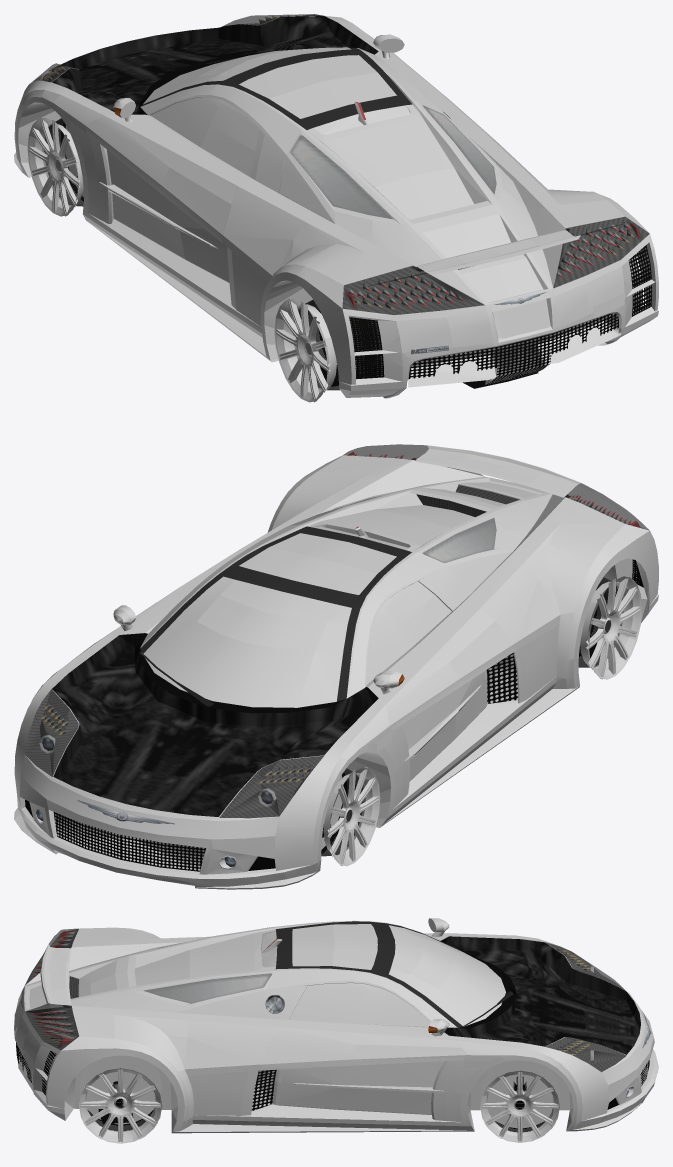
The picture shows the model from 3 angles, top to bottom: view 1: azimuth 30°, elevation 25°; view 2: azimuth 150°, elevation 25°; view 3: azimuth 270°, elevation 25°; orthographic projection. The views are drawn at different scales.
Parts seen in each view (by area): view 1: vroot_body_LOD_HLOD_HLOD.mesh, vroot_trunkbone_trunk_LOD_trunk_HLOD.mesh, vroot_body_LOD_HLOD_windows.mesh, vroot_body_LOD_HLOD_taillights_h.mesh, whl_12_rim_0, whl_8_rim_0, vroot_spoiler_splr_stk_me4_splr_moving_LOD_splr_h.mesh, vroot_body_LOD_HLOD_Plate.mesh, vroot_body_LOD_HLOD_headlights_h.mesh; view 2: vroot_body_LOD_HLOD_HLOD.mesh, vroot_body_LOD_HLOD_windows.mesh, vroot_trunkbone_trunk_LOD_trunk_HLOD.mesh, vroot_body_LOD_HLOD_headlights_h.mesh, whl_12_rim_0, whl_8_rim_0, vroot_spoiler_splr_stk_me4_splr_moving_LOD_splr_h.mesh, vroot_body_LOD_HLOD_taillights_h.mesh; view 3: vroot_body_LOD_HLOD_HLOD.mesh, vroot_body_LOD_HLOD_windows.mesh, vroot_trunkbone_trunk_LOD_trunk_HLOD.mesh, whl_14_rim_0, whl_10_rim_0, vroot_body_LOD_HLOD_taillights_h.mesh, vroot_body_LOD_HLOD_headlights_h.mesh, vroot_spoiler_splr_stk_me4_splr_moving_LOD_splr_h.mesh.
Part boxes in pixels (left/top/right/bottom): vroot_body_LOD_HLOD_HLOD.mesh: left=14, top=15, right=658, bottom=398; vroot_trunkbone_trunk_LOD_trunk_HLOD.mesh: left=279, top=102, right=533, bottom=262; vroot_body_LOD_HLOD_windows.mesh: left=143, top=47, right=396, bottom=176; vroot_body_LOD_HLOD_taillights_h.mesh: left=342, top=216, right=649, bottom=315; whl_12_rim_0: left=274, top=298, right=366, bottom=402; whl_8_rim_0: left=27, top=117, right=83, bottom=216; vroot_spoiler_splr_stk_me4_splr_moving_LOD_splr_h.mesh: left=416, top=230, right=580, bottom=274; vroot_body_LOD_HLOD_Plate.mesh: left=497, top=301, right=549, bottom=338; vroot_body_LOD_HLOD_headlights_h.mesh: left=30, top=14, right=323, bottom=83; vroot_body_LOD_HLOD_HLOD.mesh: left=14, top=455, right=658, bottom=889; vroot_body_LOD_HLOD_windows.mesh: left=143, top=533, right=451, bottom=707; vroot_trunkbone_trunk_LOD_trunk_HLOD.mesh: left=287, top=481, right=533, bottom=589; vroot_body_LOD_HLOD_headlights_h.mesh: left=24, top=689, right=323, bottom=818; whl_12_rim_0: left=578, top=576, right=642, bottom=679; whl_8_rim_0: left=321, top=767, right=380, bottom=866; vroot_spoiler_splr_stk_me4_splr_moving_LOD_splr_h.mesh: left=416, top=445, right=580, bottom=497; vroot_body_LOD_HLOD_taillights_h.mesh: left=343, top=444, right=649, bottom=530; vroot_body_LOD_HLOD_HLOD.mesh: left=14, top=918, right=658, bottom=1133; vroot_body_LOD_HLOD_windows.mesh: left=289, top=924, right=505, bottom=1026; vroot_trunkbone_trunk_LOD_trunk_HLOD.mesh: left=75, top=926, right=276, bottom=1017; whl_14_rim_0: left=78, top=1055, right=162, bottom=1143; whl_10_rim_0: left=480, top=1060, right=559, bottom=1142; vroot_body_LOD_HLOD_taillights_h.mesh: left=25, top=928, right=78, bottom=1050; vroot_body_LOD_HLOD_headlights_h.mesh: left=545, top=942, right=626, bottom=1072; vroot_spoiler_splr_stk_me4_splr_moving_LOD_splr_h.mesh: left=40, top=944, right=71, bottom=1005.
Size of what is drawn, in the model's own units: 2.01 by 1.21 by 4.52.
Materials: 42 (19 with a texture image).
